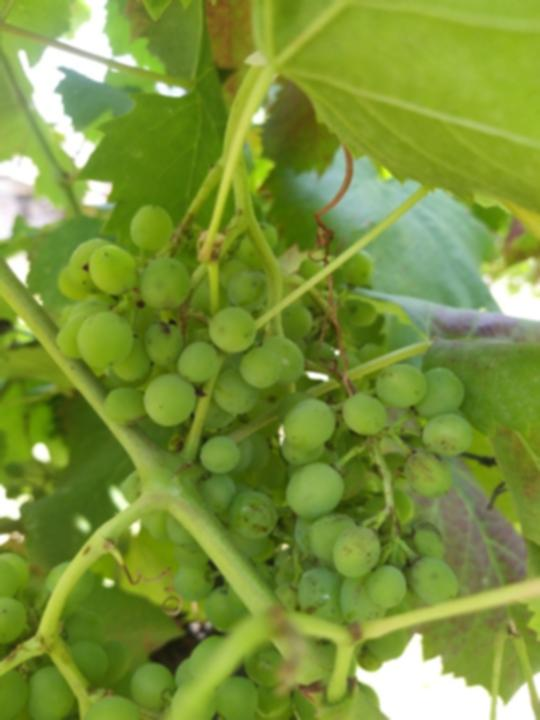grape: (47, 200, 472, 678)
